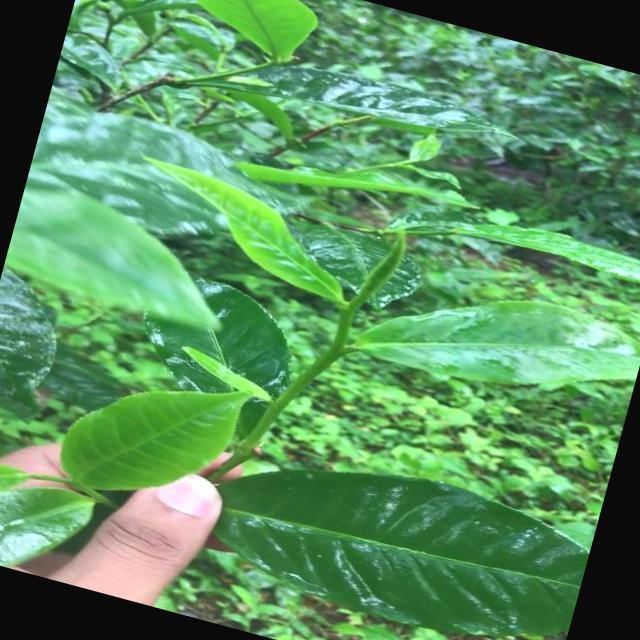Stem: (302, 348, 342, 379)
